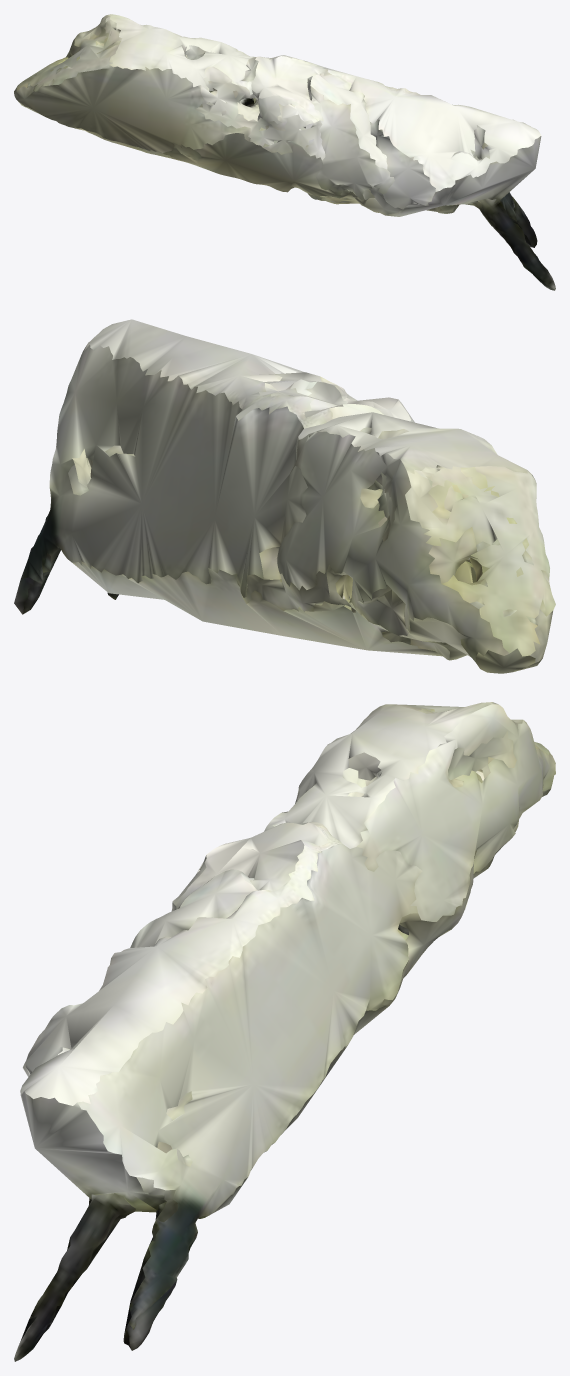
File: 31_chair.glb
The picture shows the model from 3 angles, top to bottom: view 1: azimuth 30°, elevation 25°; view 2: azimuth 150°, elevation 25°; view 3: azimuth 270°, elevation 25°; orthographic projection. The views are drawn at different scales.
Parts seen in each view (by area): view 1: 31_chair; view 2: 31_chair; view 3: 31_chair.
Boxes of the visible parts, x1,y1,x2,y2 form: 31_chair: [14, 14, 555, 290]; 31_chair: [14, 319, 555, 673]; 31_chair: [14, 702, 555, 1361].
Size of the model in its own units: 1.82 by 1.07 by 1.27.
1 material, 1 textured.
